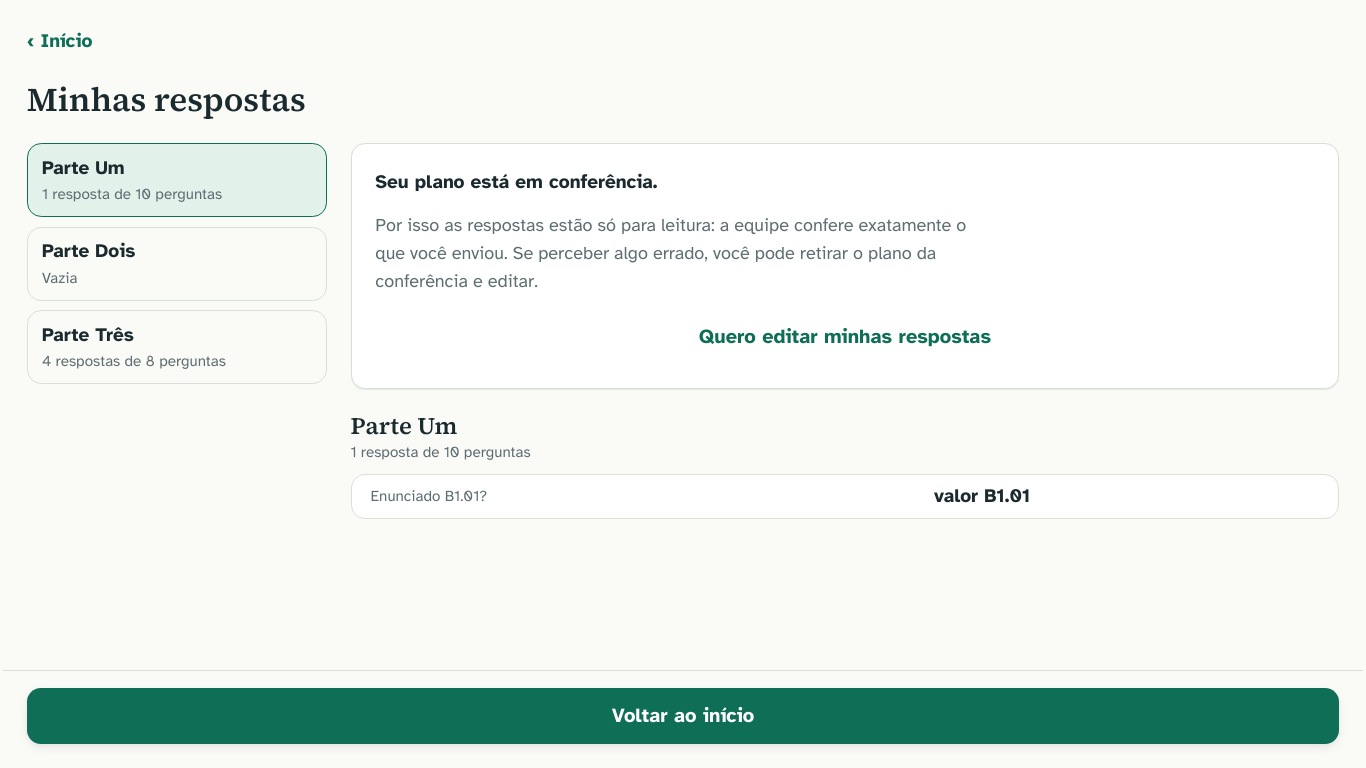
TelaRespostas — só leitura em conferência (T-337, RF-114/RF-115) › pede confirmação, retira o plano e a lista volta a ter "Editar"
This screenshot has width=1366, height=768.
Click the button "Quero editar minhas respostas" at (845, 337), box [375,310,1315,364]
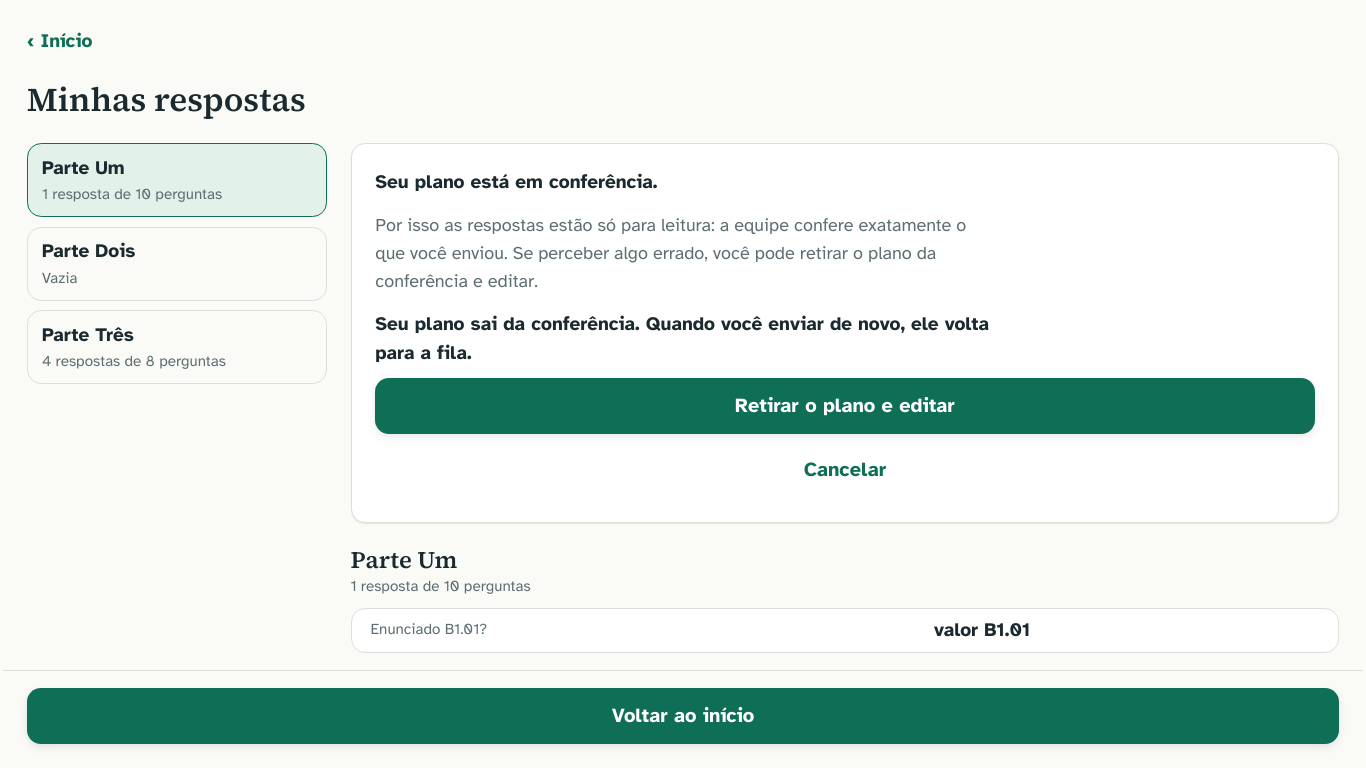
Result: the text "Seu plano sai da conferência. Quando você enviar de novo, ele volta para a fila." is shown at [375,312,989,365]
Click the button "Retirar o plano e editar" at (845, 406), box [375,378,1315,434]
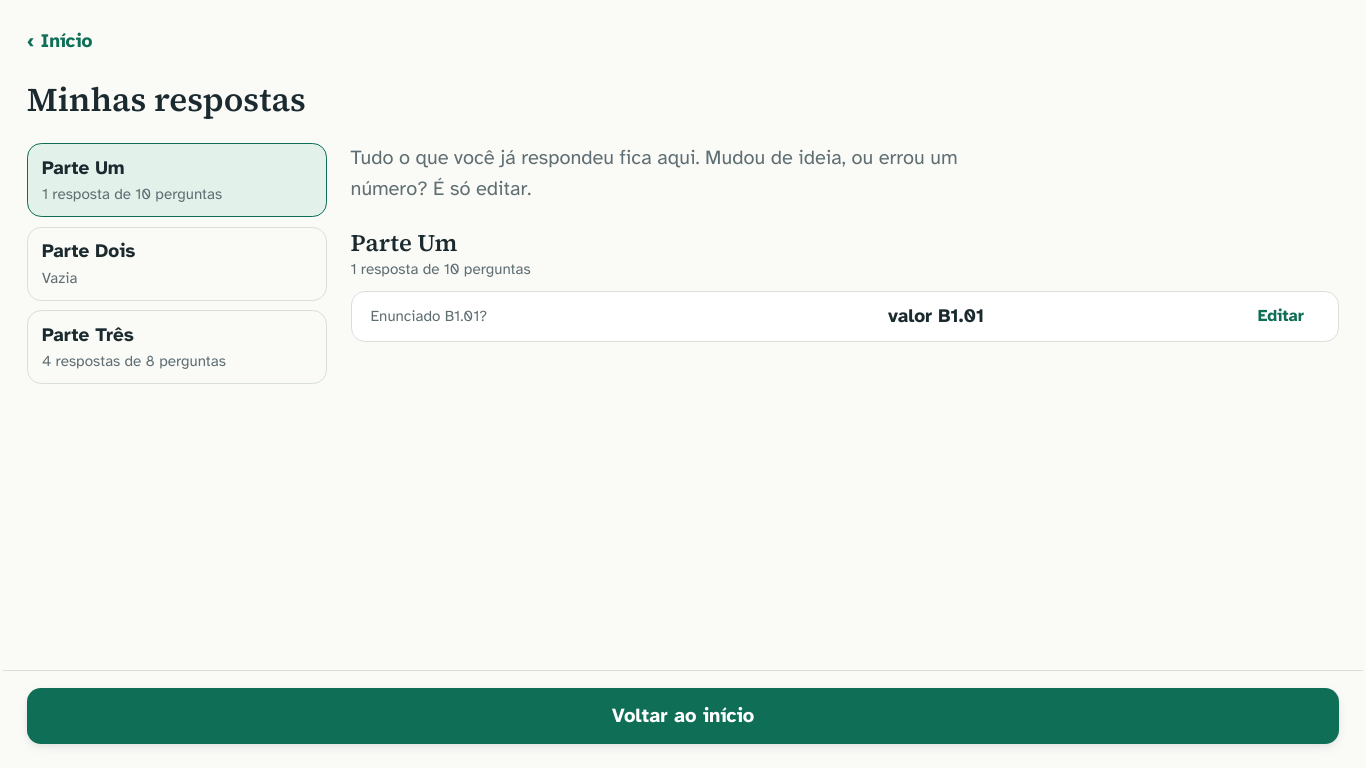
Result: the button "Editar" is shown at [1243,299,1319,334]
